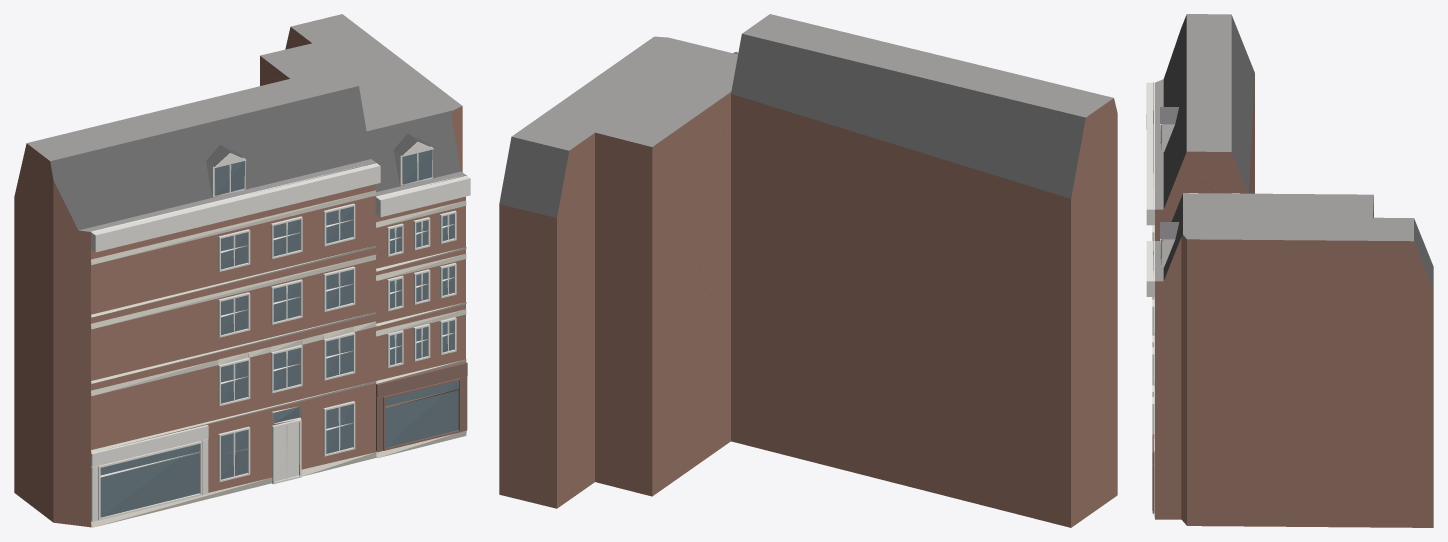
The model's file is chunk-face-bilder-161281-157756.lod2.glb.
The picture shows the model from 3 angles, left to right: view 1: azimuth 30°, elevation 25°; view 2: azimuth 150°, elevation 25°; view 3: azimuth 270°, elevation 25°; orthographic projection. The views are drawn at different scales.
Visible parts, largest first — view 1: lod2; view 2: lod2; view 3: lod2.
Boxes of the visible parts, left/top/right/bottom form: lod2: left=14, top=14, right=470, bottom=527; lod2: left=499, top=14, right=1117, bottom=527; lod2: left=1146, top=14, right=1433, bottom=527.
Bounding box in the file's own units: 20.5 × 16.87 × 13.38.
